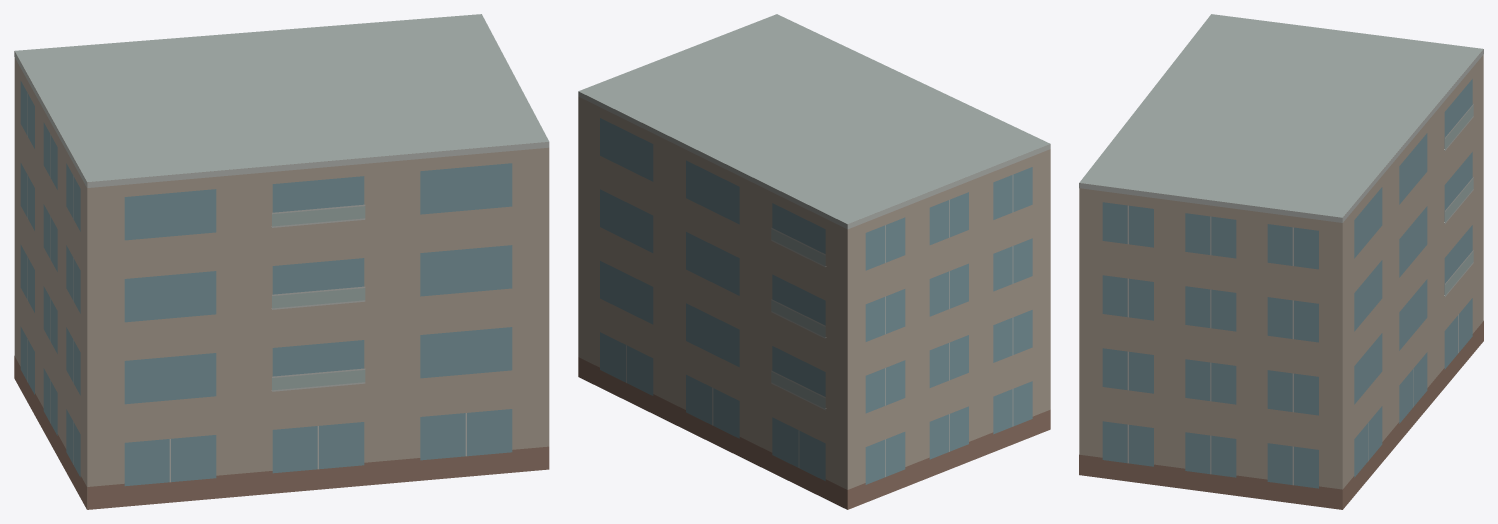
File: survey-upis-32783975.glb
3 views of the same model, side by side, from view 1: azimuth 30°, elevation 25°; view 2: azimuth 150°, elevation 25°; view 3: azimuth 270°, elevation 25° (orthographic). The views are drawn at different scales.
Parts seen in each view (by area): view 1: survey-upis-32783975.tmp; view 2: survey-upis-32783975.tmp; view 3: survey-upis-32783975.tmp.
Boxes of the visible parts, <box> form: survey-upis-32783975.tmp: <box>14,14,549,509</box>; survey-upis-32783975.tmp: <box>578,14,1050,509</box>; survey-upis-32783975.tmp: <box>1079,14,1483,509</box>.
Bounding box in the file's own units: 20.2 × 13.5 × 16.96.
